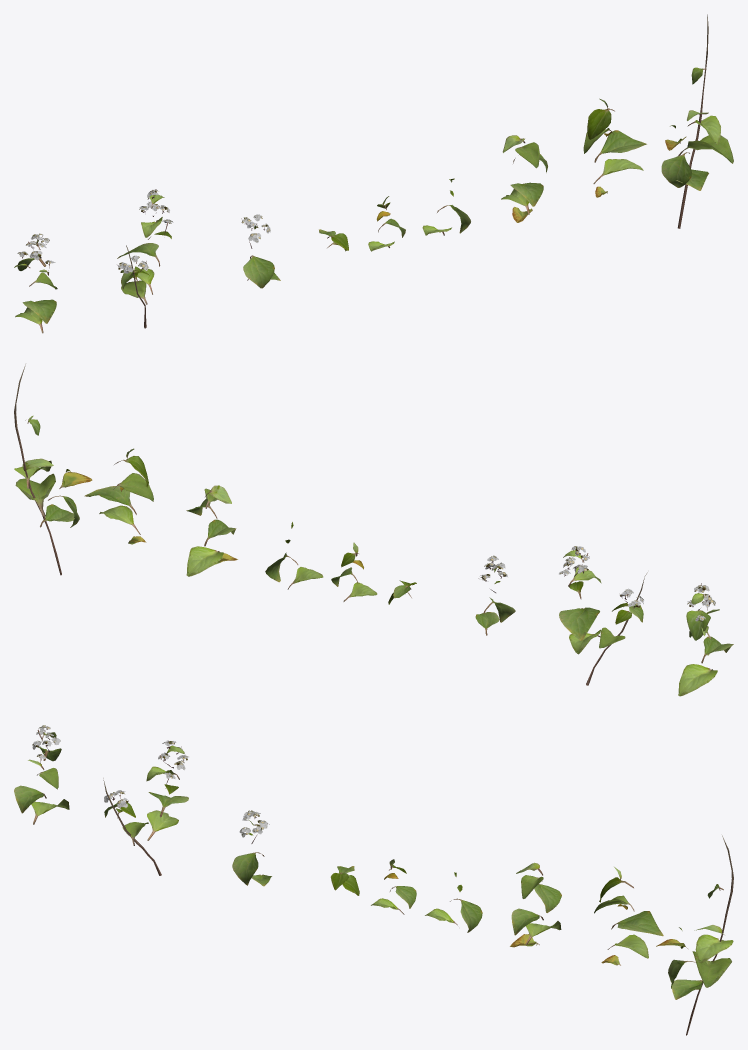
The model's file is middle.glb.
3 renders of one model, top to bottom at view 1: azimuth 30°, elevation 25°; view 2: azimuth 150°, elevation 25°; view 3: azimuth 330°, elevation 25°, orthographic.
Visible parts, largest first — view 1: shrub_01_a; view 2: shrub_01_a; view 3: shrub_01_a.
Boxes of the visible parts, box(x1,y1,x2,y2) form: shrub_01_a: box(14, 14, 733, 333); shrub_01_a: box(14, 364, 733, 696); shrub_01_a: box(14, 725, 733, 1035).
Bounding box in the file's own units: 2.56 × 0.7114 × 0.2609.
Materials: 1 (1 with a texture image).
